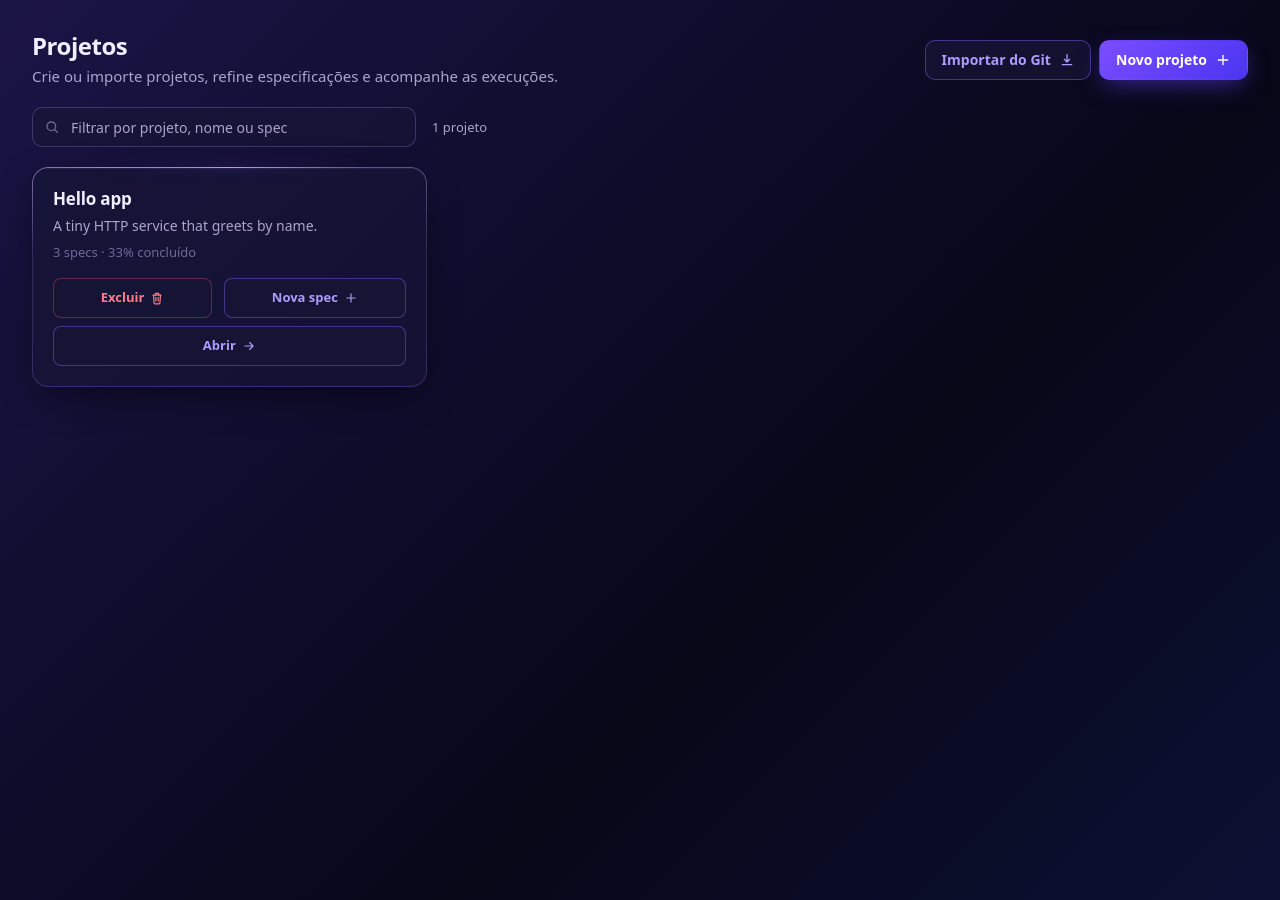
Test: ProjectsView › opens one creation form at a time and keeps what was typed
Click the button "Novo projeto". click: (1174, 60)
box: [1099,40,1248,80]
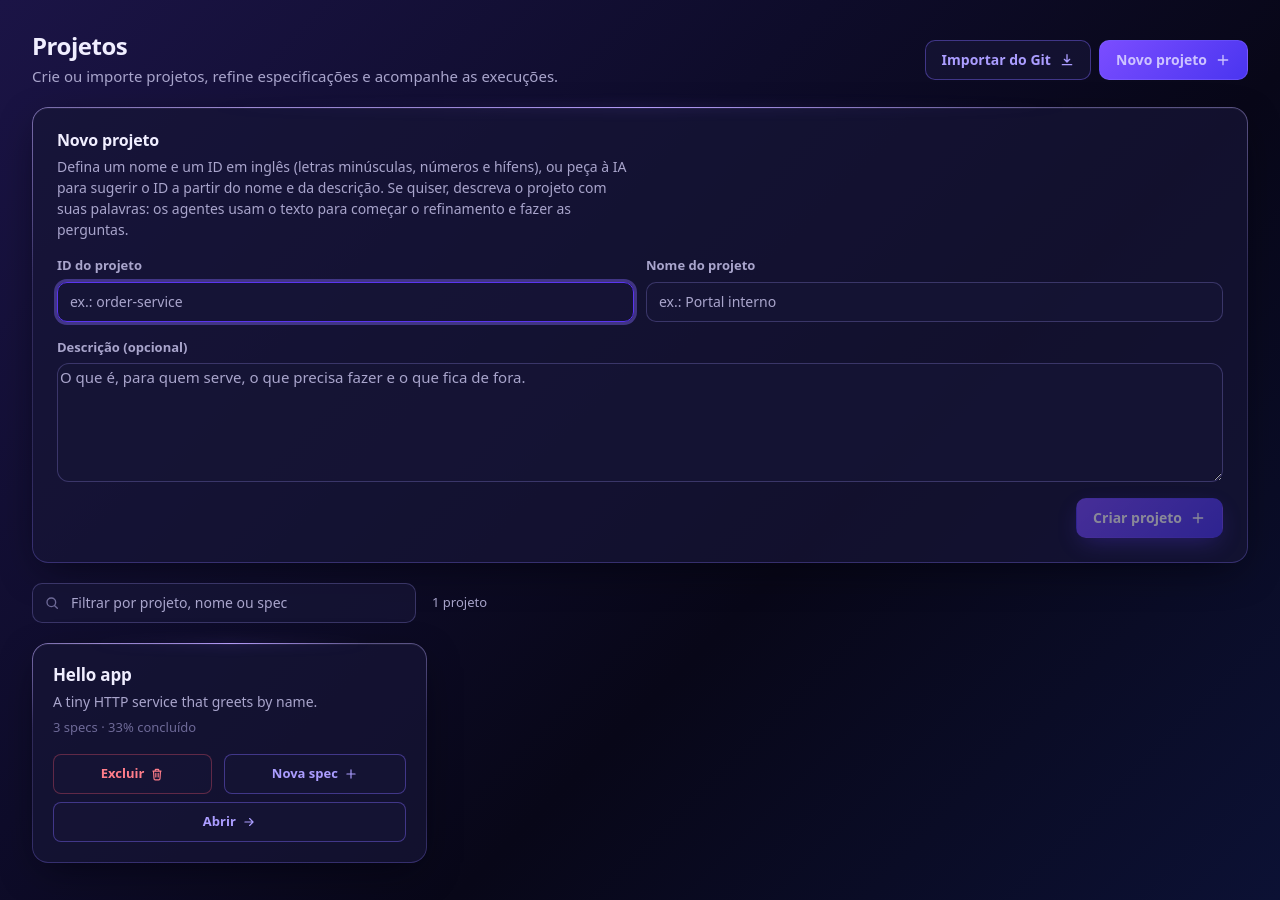
Check: the button "Novo projeto" is expanded, box [1099,40,1248,80]
Type "shop" into the field with test id "new-project-id". click: (346, 302)
box: [57,282,634,322]
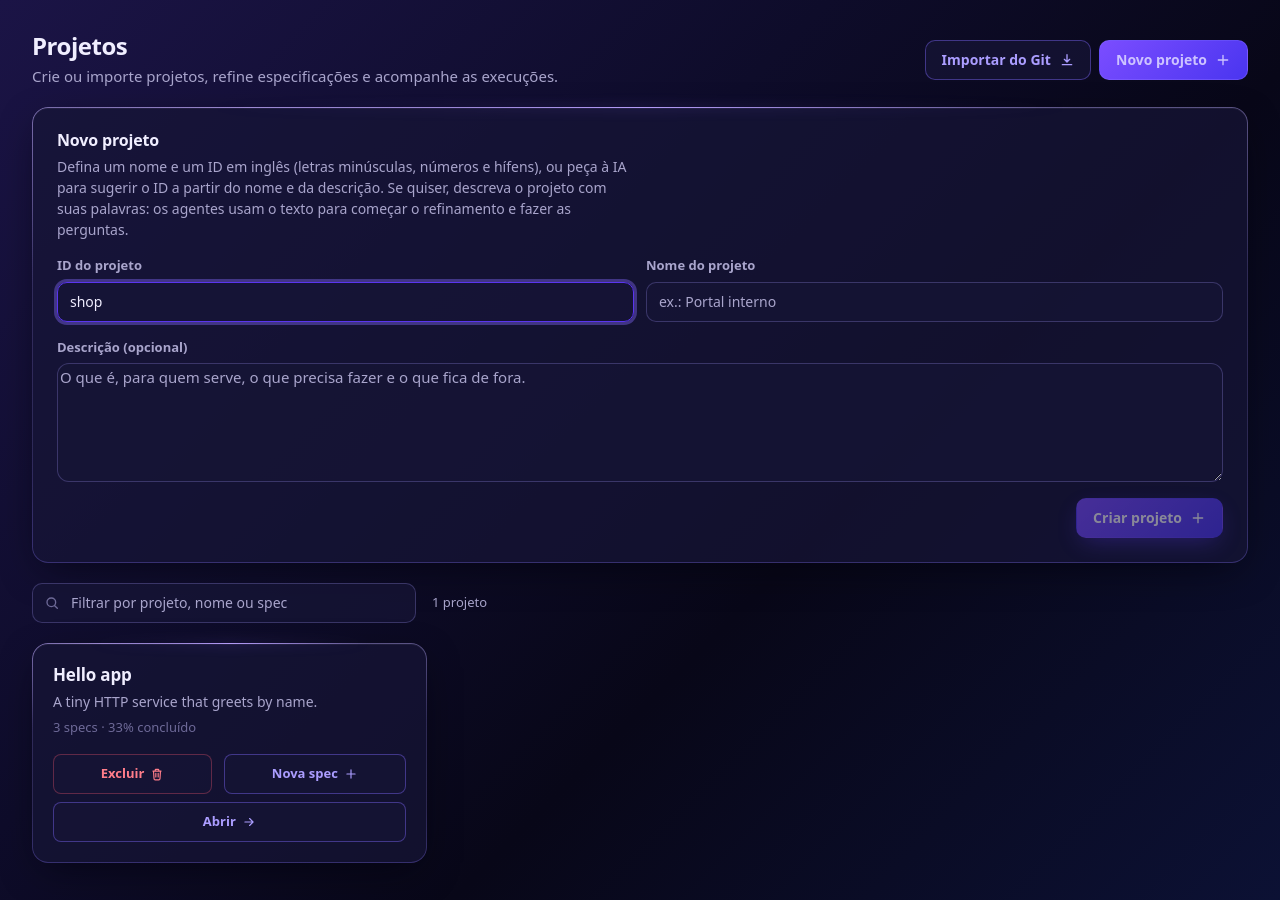
Click the button "Importar do Git". click: (1008, 60)
box: [925,40,1091,80]
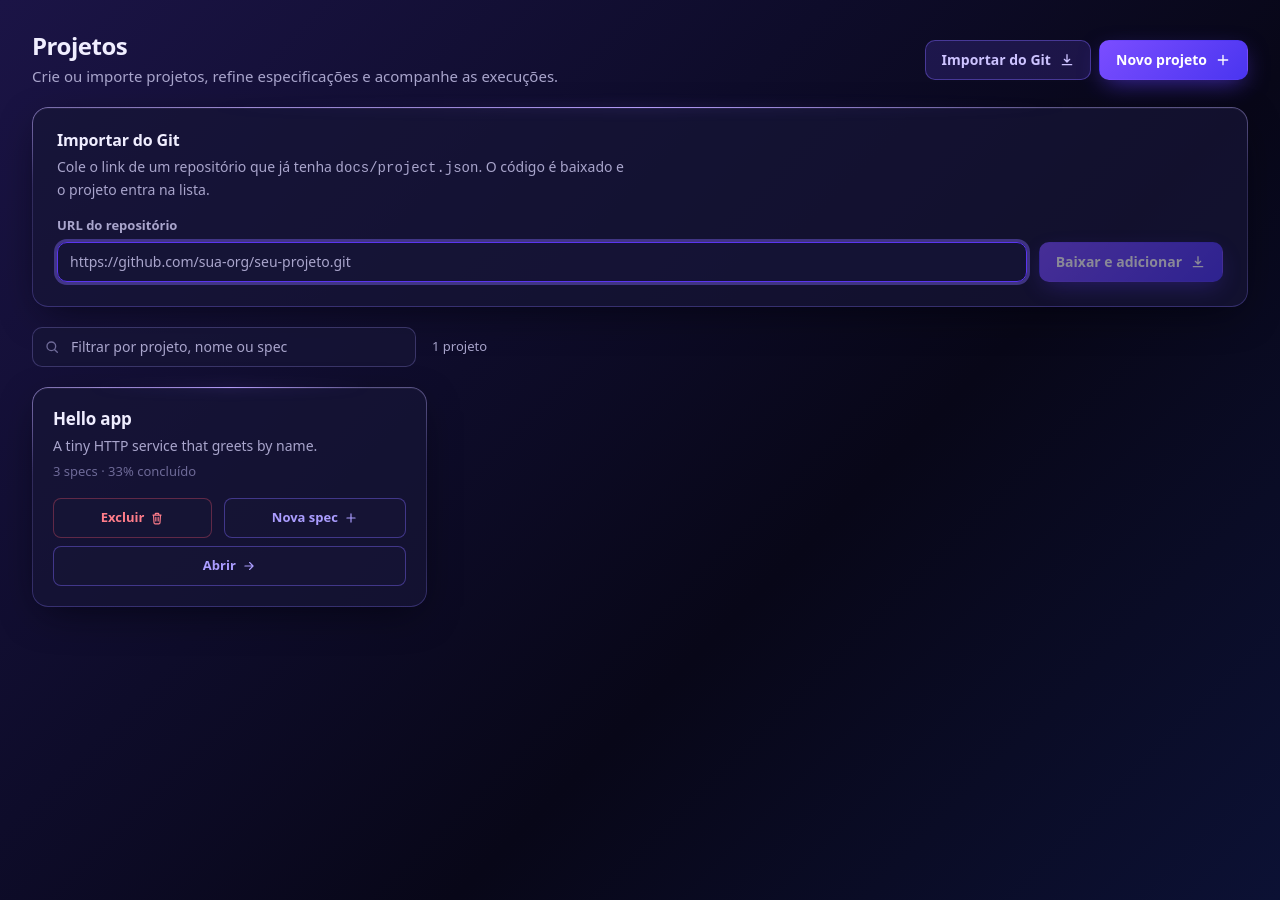
Check: the button "Novo projeto" is collapsed
Check: the field with test id "new-project-id" is gone
Check: the field labelled "URL do repositório" is shown, box [57,242,1027,282]
Click the button "Novo projeto". click: (1174, 60)
box: [1099,40,1248,80]
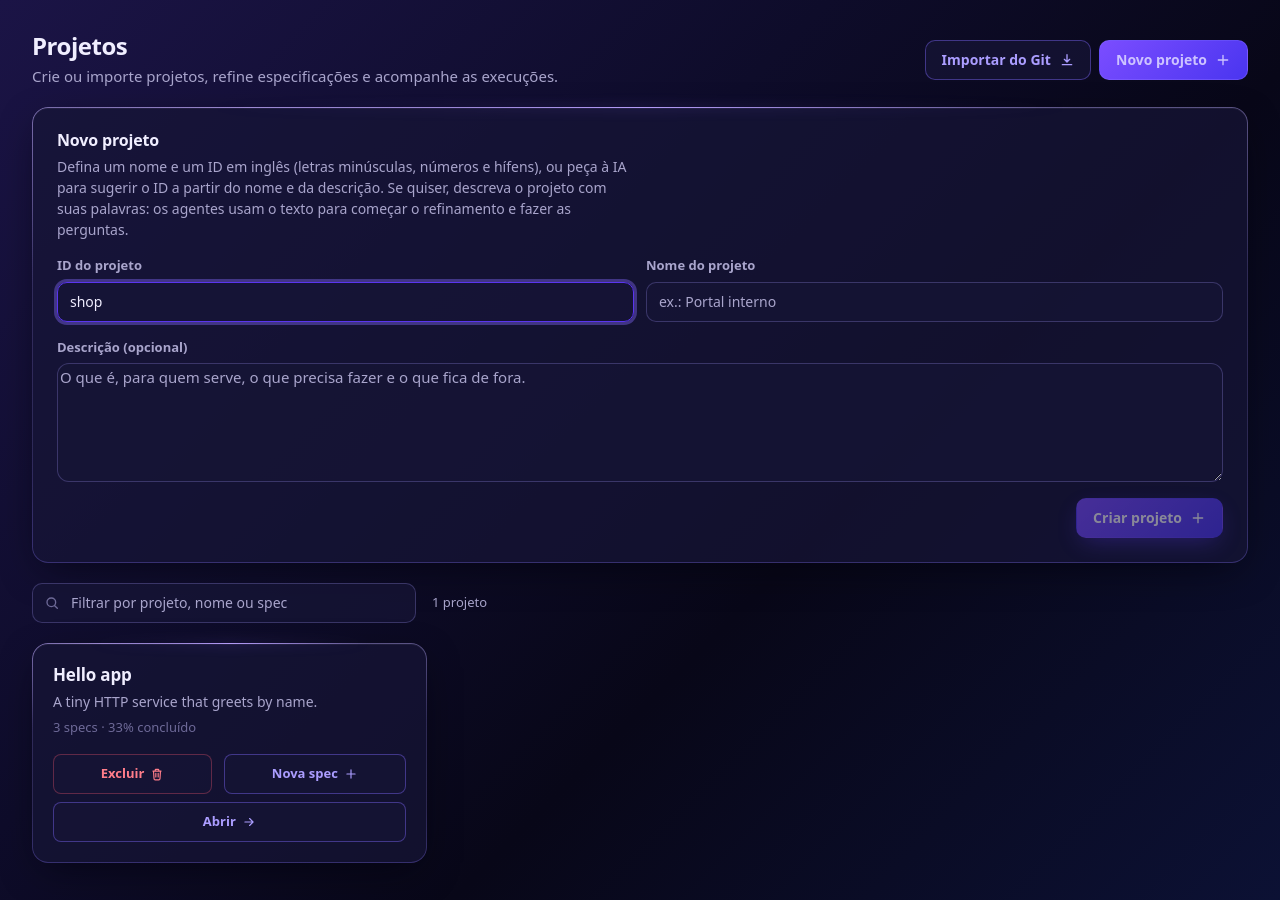
Check: the text labelled "URL do repositório" is gone
Check: the field with test id "new-project-id" holds "shop", box [57,282,634,322]
